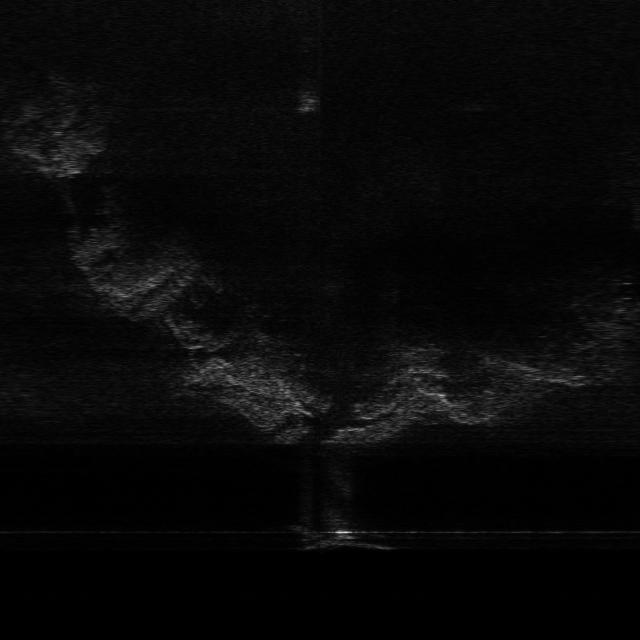plane: (288, 522, 403, 552)
